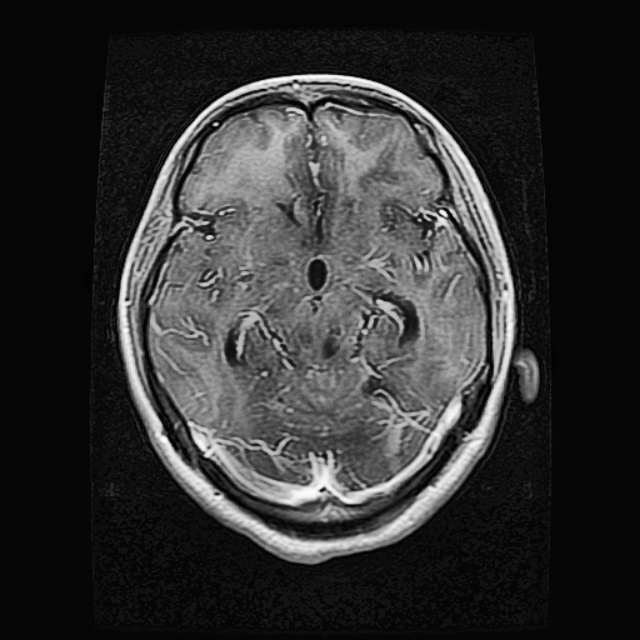Glioma: (368, 288, 417, 344)
